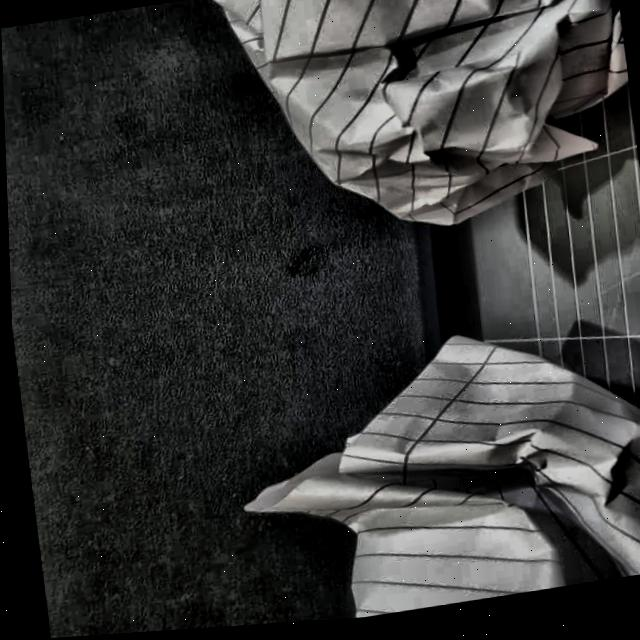paper: (180, 0, 640, 284), (235, 328, 640, 628)
